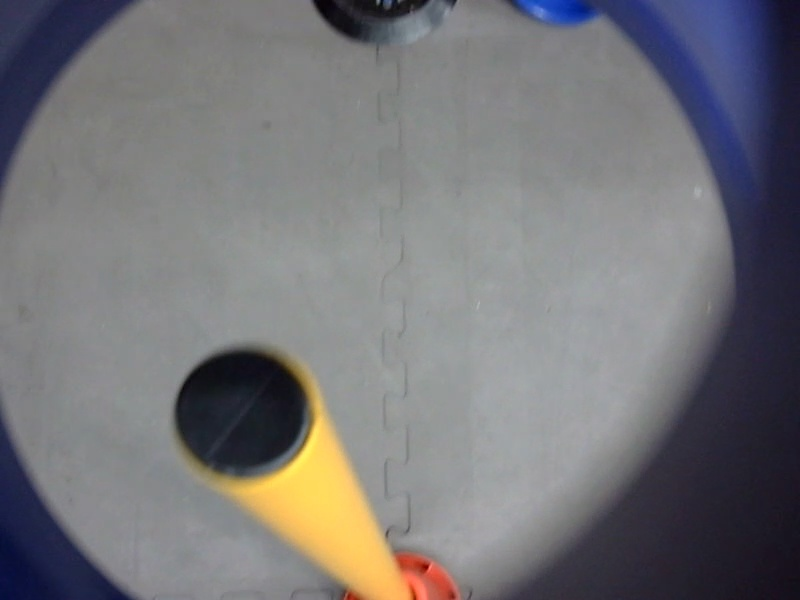tip: (161, 337, 328, 498)
